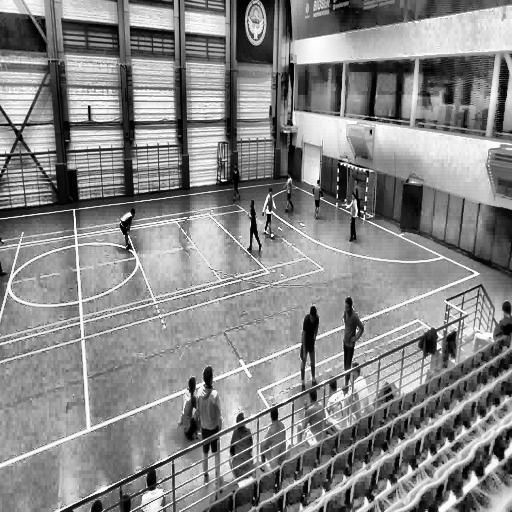ball: (344, 198, 347, 204)
player: (192, 367, 222, 489), (342, 297, 363, 381), (300, 306, 318, 391), (248, 197, 262, 253), (262, 187, 276, 240), (120, 207, 135, 252), (348, 193, 358, 243), (352, 176, 362, 220), (284, 172, 294, 213), (313, 178, 322, 220), (232, 164, 241, 202)
